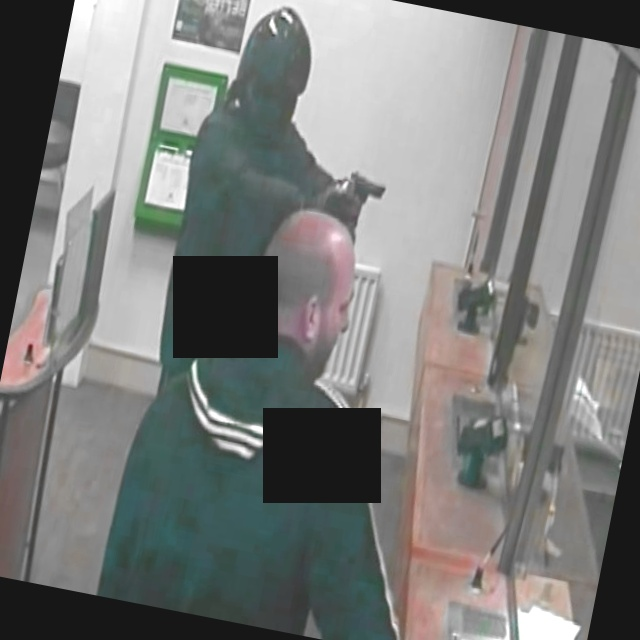gun: (333, 156, 394, 220)
